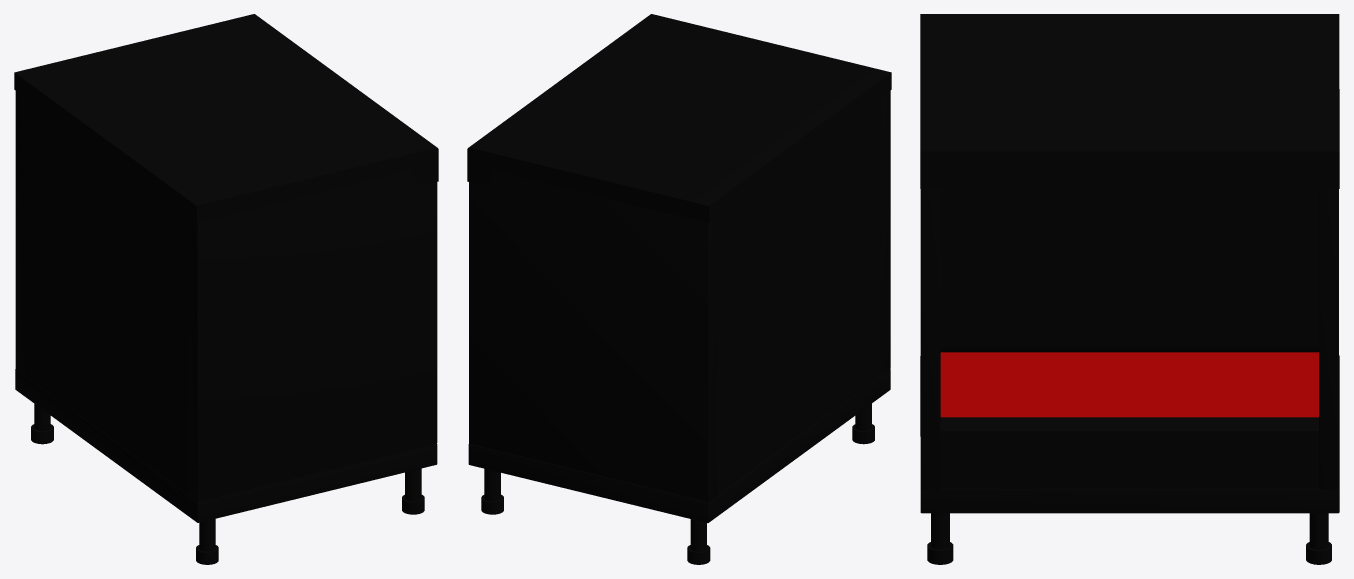
The model's file is KitchenRazdacha01_04a.FBX.
3 renders of one model, left to right at view 1: azimuth 30°, elevation 25°; view 2: azimuth 150°, elevation 25°; view 3: azimuth 270°, elevation 25°, orthographic. The views are drawn at different scales.
Parts seen in each view (by area): view 1: Kitchen4a; view 2: Kitchen4a; view 3: Kitchen4a.
Boxes of the visible parts, left/top/right/bottom form: Kitchen4a: left=14, top=14, right=438, bottom=564; Kitchen4a: left=467, top=14, right=891, bottom=564; Kitchen4a: left=920, top=14, right=1339, bottom=564.
Bounding box in the file's own units: 24.54 × 35.41 × 32.08.
